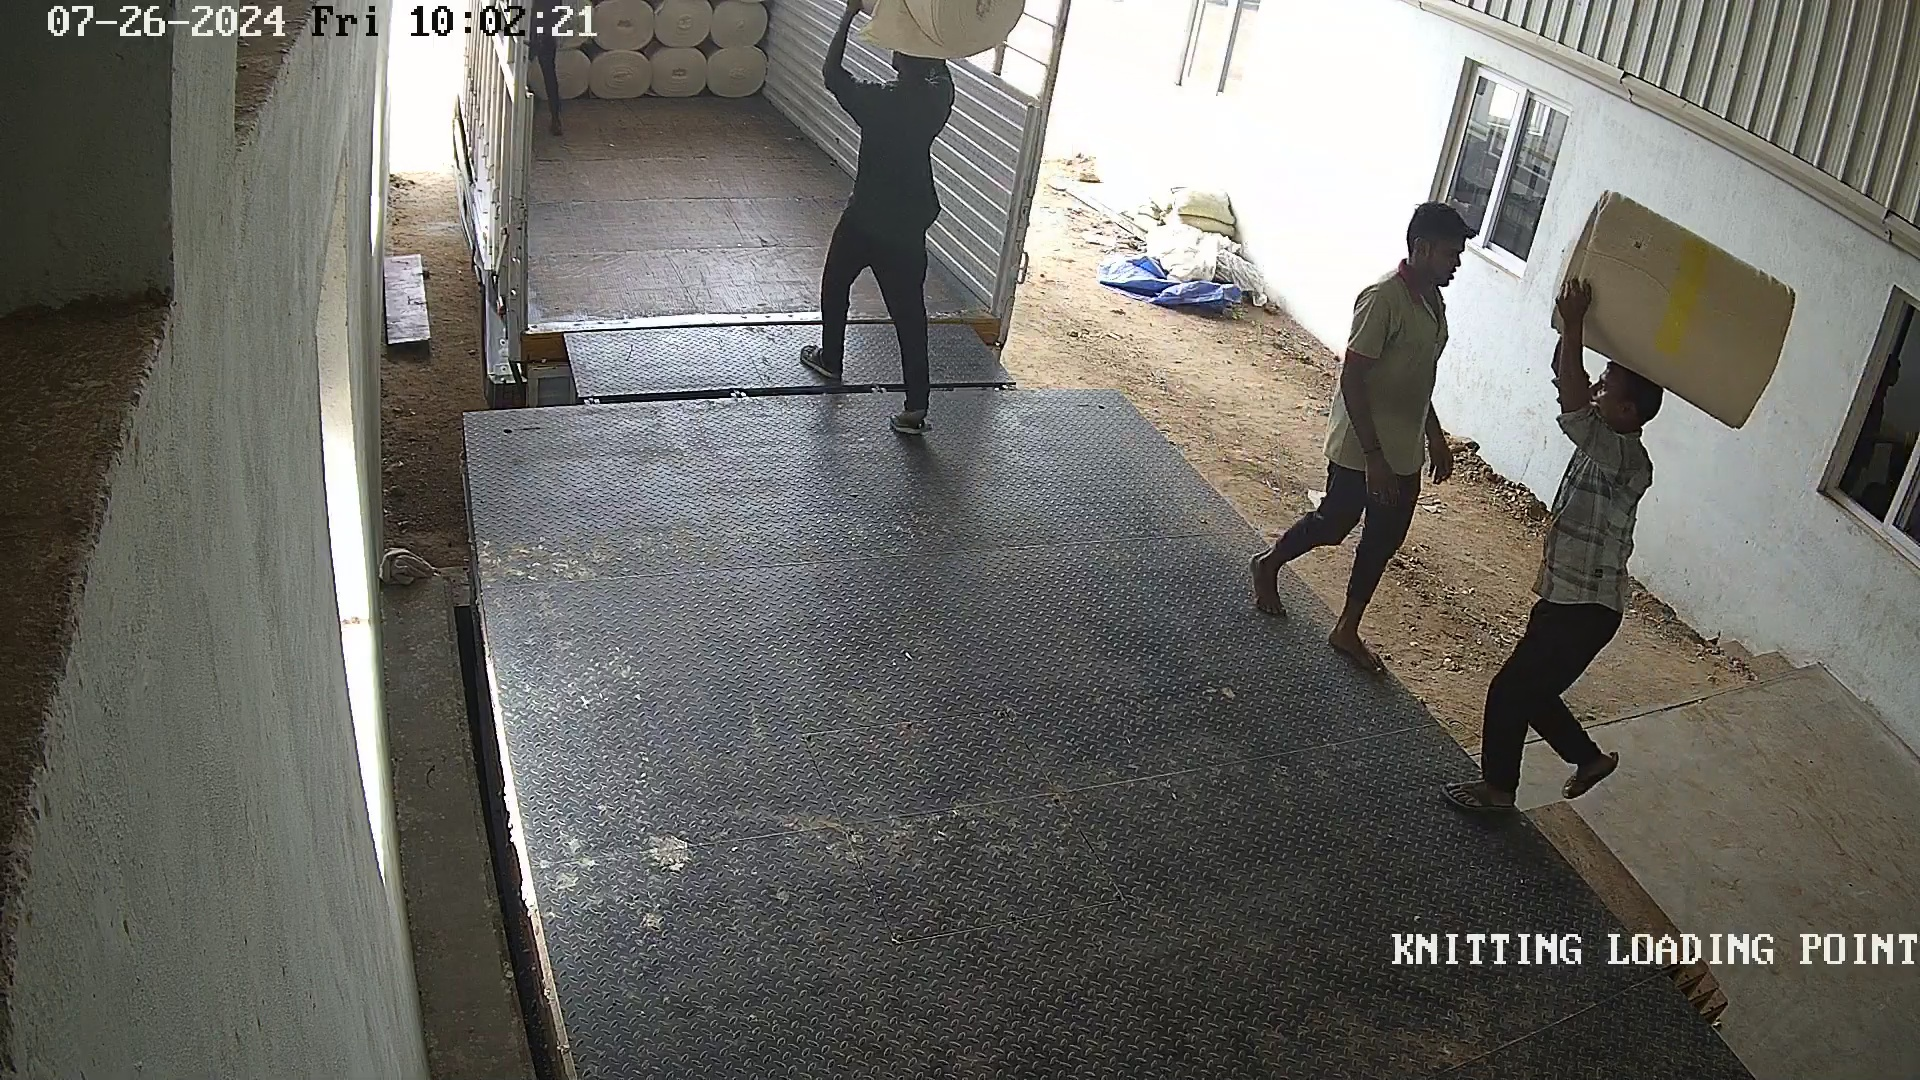bag: (836, 3, 1051, 67)
